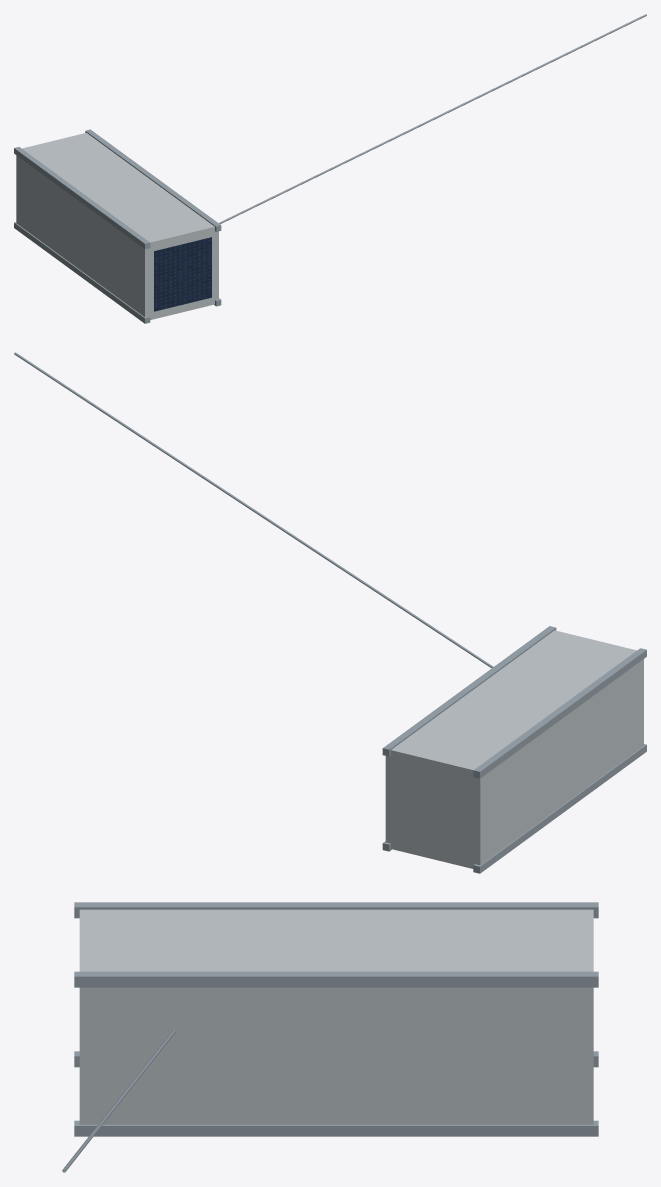
Rendered from ref-cubesat-3u-43933.glb.
The picture shows the model from 3 angles, top to bottom: view 1: azimuth 30°, elevation 25°; view 2: azimuth 150°, elevation 25°; view 3: azimuth 270°, elevation 25°; orthographic projection. The views are drawn at different scales.
Visible parts, largest first — view 1: Spacecraft body, Body-mounted cells, Dispenser rail (×3), Antenna boom; view 2: Spacecraft body, Dispenser rail (×3), Antenna boom; view 3: Spacecraft body, Dispenser rail (×3), Antenna boom.
Boxes of the visible parts, bbox=[...] form: Spacecraft body: bbox=[16, 133, 218, 319]; Body-mounted cells: bbox=[154, 237, 211, 311]; Dispenser rail (×3): bbox=[14, 129, 221, 323]; Antenna boom: bbox=[219, 14, 646, 224]; Spacecraft body: bbox=[385, 630, 643, 868]; Dispenser rail (×3): bbox=[382, 626, 646, 873]; Antenna boom: bbox=[14, 352, 493, 668]; Spacecraft body: bbox=[79, 909, 593, 1124]; Dispenser rail (×3): bbox=[74, 902, 598, 1136]; Antenna boom: bbox=[62, 1029, 175, 1172].
Size of the model in its own units: 0.6728 by 0.2447 by 0.3131.
3 materials, 1 textured.
